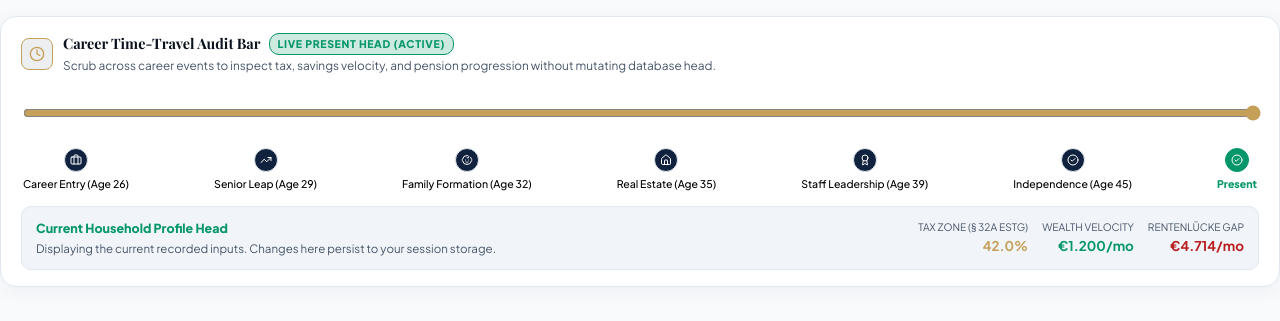
Test: TimeTravelScrubBar (Event Sourcing & Career Scrubbing R3) › updates live micro-gauges (tax zone, wealth velocity, Rentenlücke) during scrub
Scrub to Milestone 4 (Staff Leadership Age 39, income €105k)
Step 1. Set the slider with test id "time-travel-slider" to "4" → (846, 113), box [23, 91, 1261, 135]
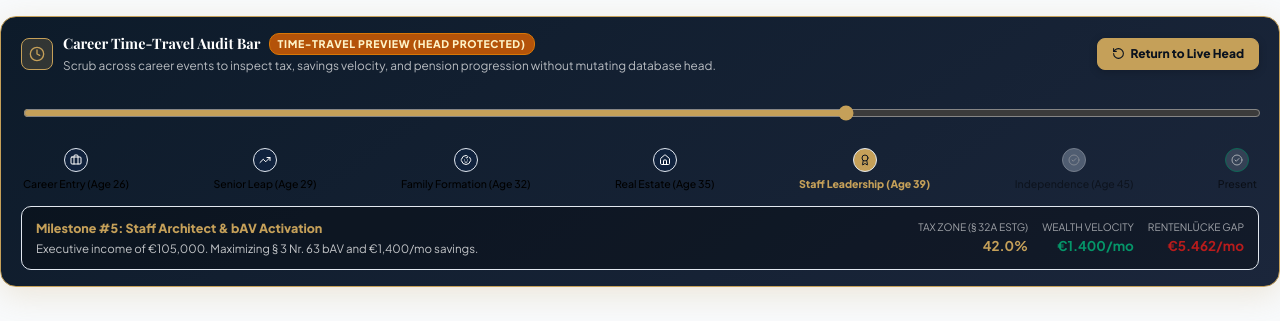
Check: the text with test id "live-tax-bracket" reads "42.0%", box [983, 237, 1028, 254]
Check: the text "Milestone #5: Staff Architect & bAV Activation" is shown, box [36, 220, 322, 236]
Check: the text with test id "live-wealth-velocity" shows "1.400", box [1057, 237, 1134, 254]
